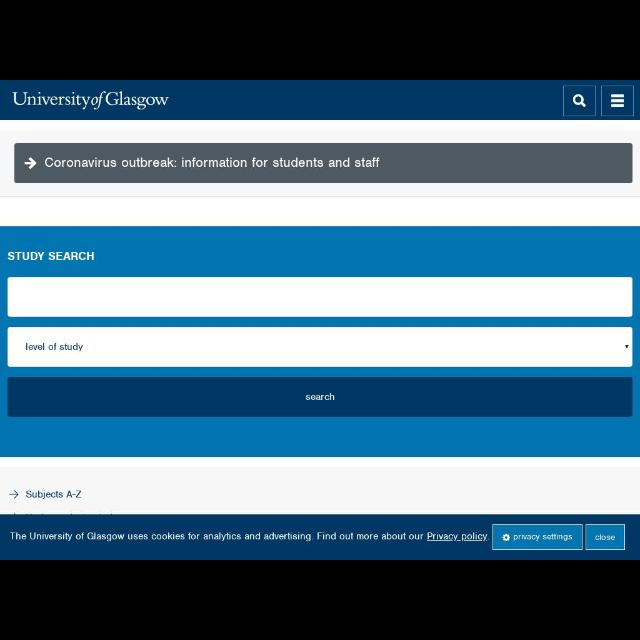button: (564, 85, 596, 116), (602, 86, 634, 115)
icon: (572, 94, 588, 108), (611, 94, 625, 108), (24, 157, 36, 169), (8, 489, 20, 498), (502, 534, 511, 542), (625, 344, 629, 348)
input: (8, 276, 632, 318)
spinner: (8, 327, 632, 368)
text: (8, 532, 490, 542), (45, 158, 381, 168), (12, 90, 168, 110), (7, 251, 95, 261), (513, 532, 573, 542), (25, 342, 83, 352), (26, 489, 84, 498), (305, 393, 335, 401), (594, 534, 616, 540)
textbutton: (8, 376, 632, 416), (492, 525, 582, 549), (586, 524, 624, 550)
